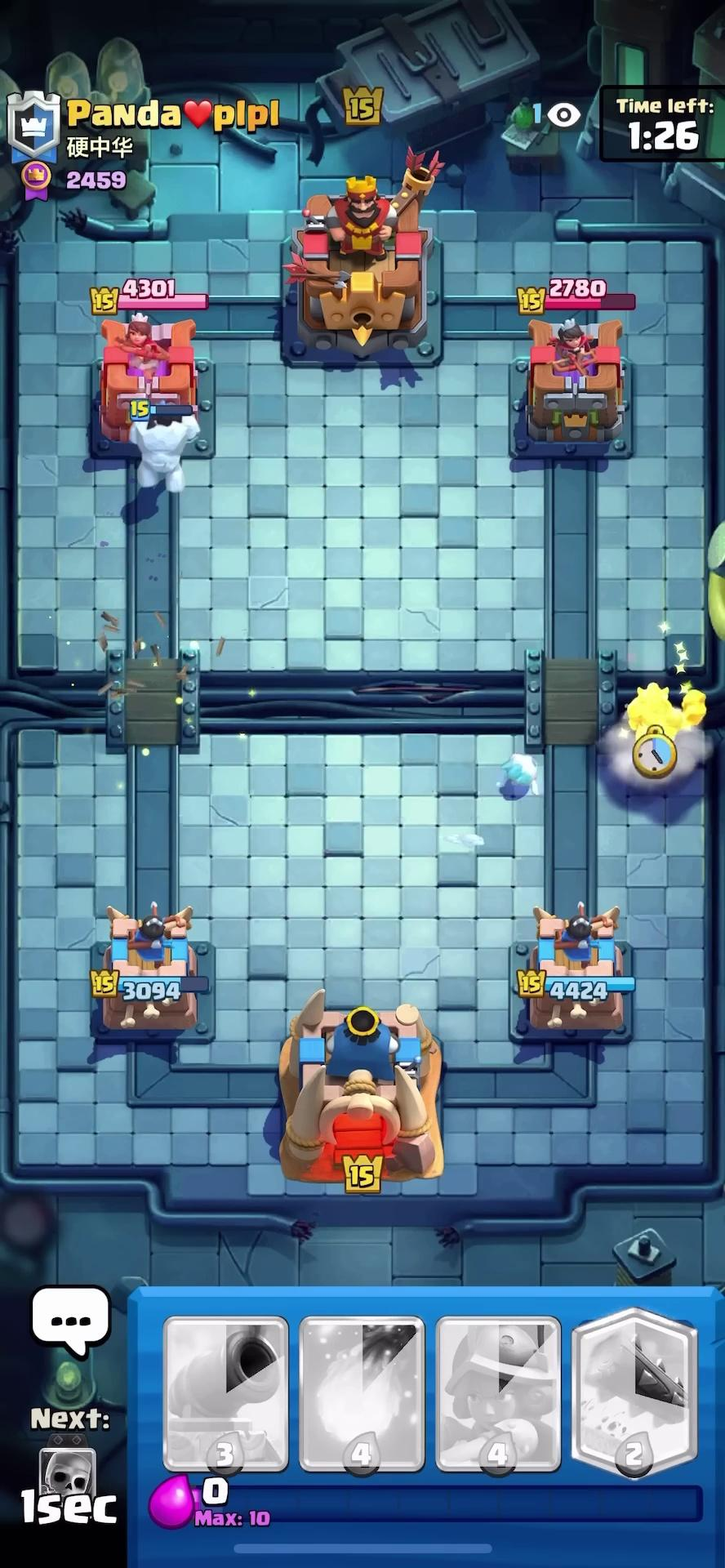hog_rider: (620, 670, 706, 762)
ice_golem: (116, 398, 204, 504)
ice_spirit: (494, 725, 559, 806)
